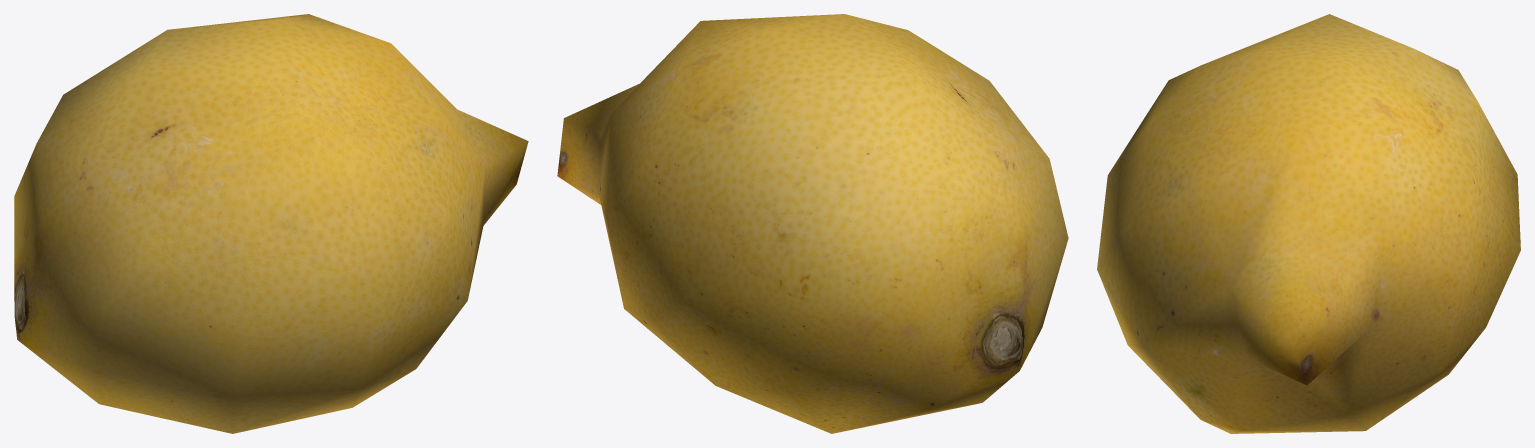
The model's file is lemon_th5jddwva_low.glb.
3 views of the same model, side by side, from view 1: azimuth 30°, elevation 25°; view 2: azimuth 150°, elevation 25°; view 3: azimuth 270°, elevation 25° (orthographic). The views are drawn at different scales.
Visible parts, largest first — view 1: th5jddwva_LOD0_TIER3_000; view 2: th5jddwva_LOD0_TIER3_000; view 3: th5jddwva_LOD0_TIER3_000.
Boxes of the visible parts, box(x1,y1,x2,y2) form: th5jddwva_LOD0_TIER3_000: box(14, 14, 528, 433); th5jddwva_LOD0_TIER3_000: box(557, 14, 1068, 433); th5jddwva_LOD0_TIER3_000: box(1097, 14, 1520, 433).
Bounding box in the file's own units: 0.0693 × 0.0502 × 0.0526.
1 material, 1 textured.
